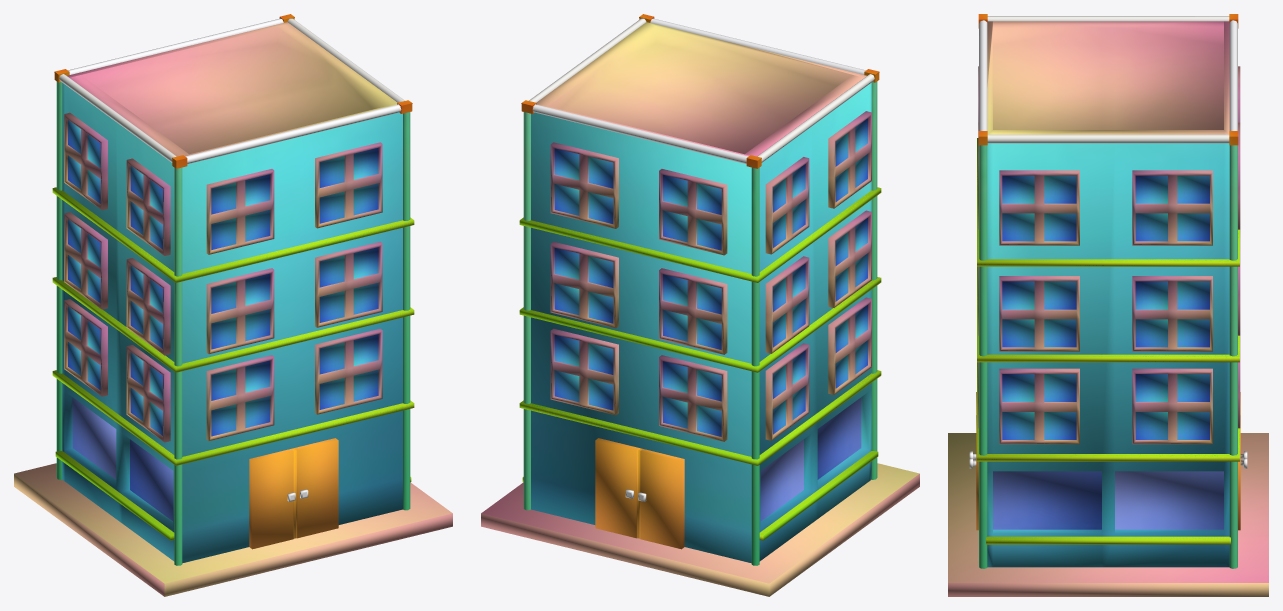
File: House4.fbx
The picture shows the model from 3 angles, left to right: view 1: azimuth 30°, elevation 25°; view 2: azimuth 150°, elevation 25°; view 3: azimuth 270°, elevation 25°; orthographic projection. The views are drawn at different scales.
Visible parts, largest first — view 1: House.4; view 2: House.4; view 3: House.4.
Boxes of the visible parts, box(x1,y1,x2,y2) form: House.4: box(14, 14, 452, 596); House.4: box(481, 14, 919, 596); House.4: box(948, 14, 1268, 596).
Size of the model in its own units: 738 by 1025 by 667.
1 material, 1 textured.
